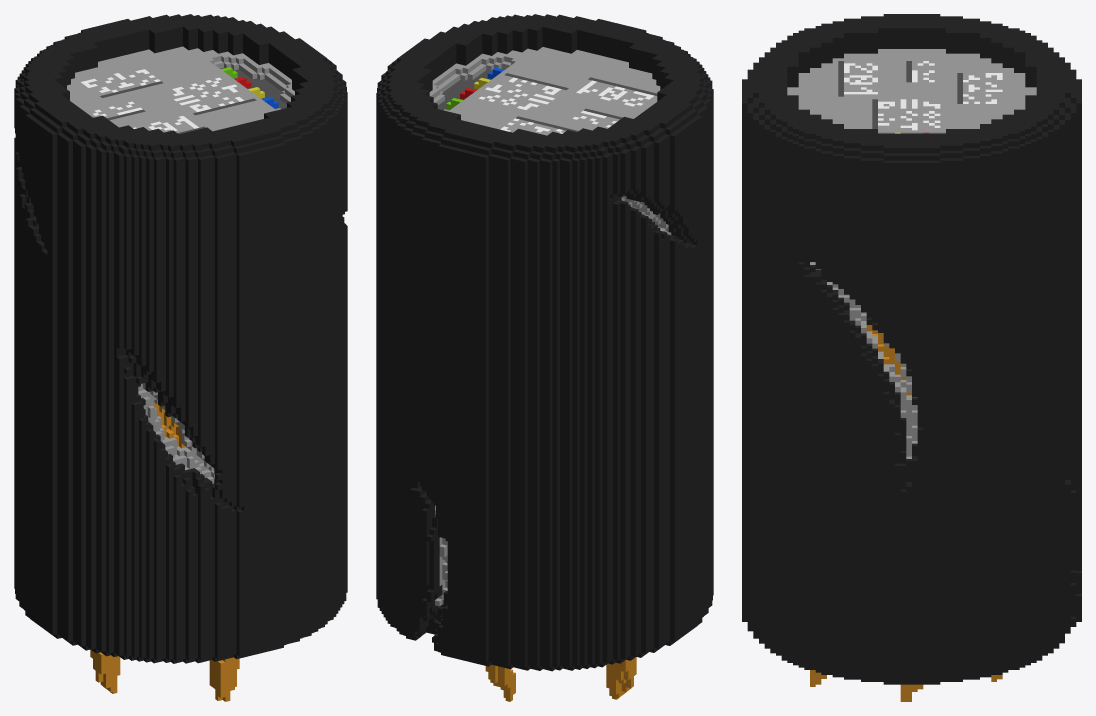
Rendered from GORODITH_cylinder_big.obj.
The picture shows the model from 3 angles, left to right: view 1: azimuth 30°, elevation 25°; view 2: azimuth 150°, elevation 25°; view 3: azimuth 270°, elevation 25°; orthographic projection. The views are drawn at different scales.
Bounding box in the file's own units: 6 × 12 × 6.
1 material, 1 textured.
